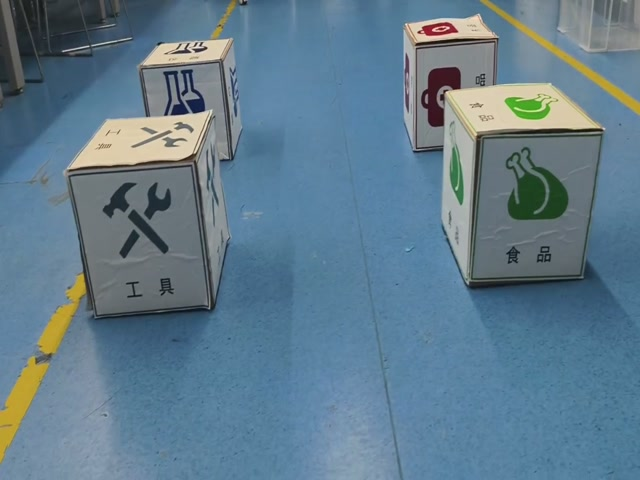Cube_food: (68, 113, 210, 174)
Cube_medicine: (406, 15, 495, 46)
